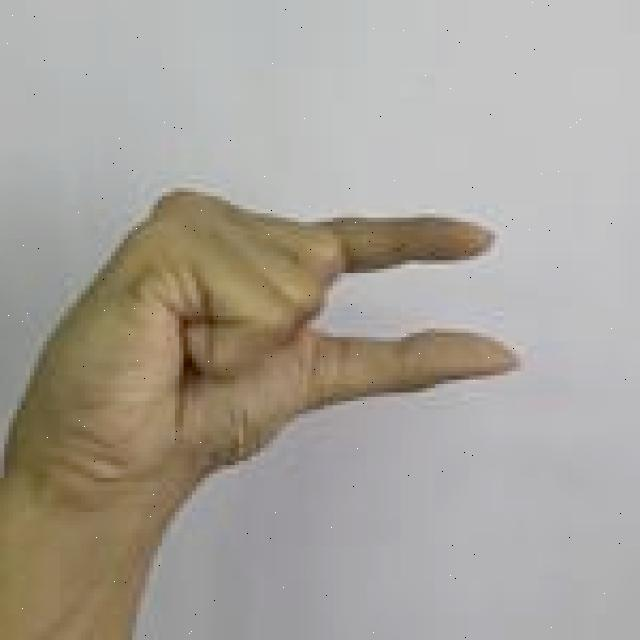G: (0, 182, 526, 640)
